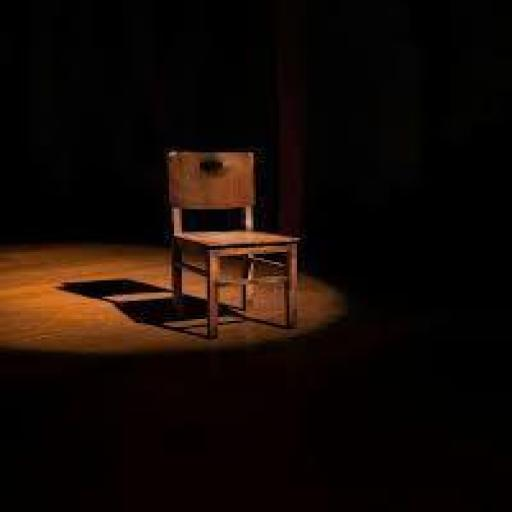chair: (155, 144, 311, 348)
